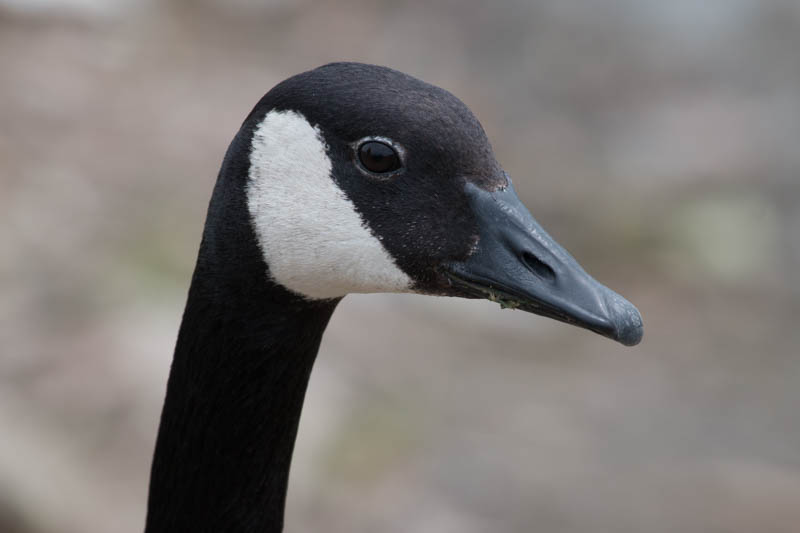goose-head: (190, 62, 645, 346)
